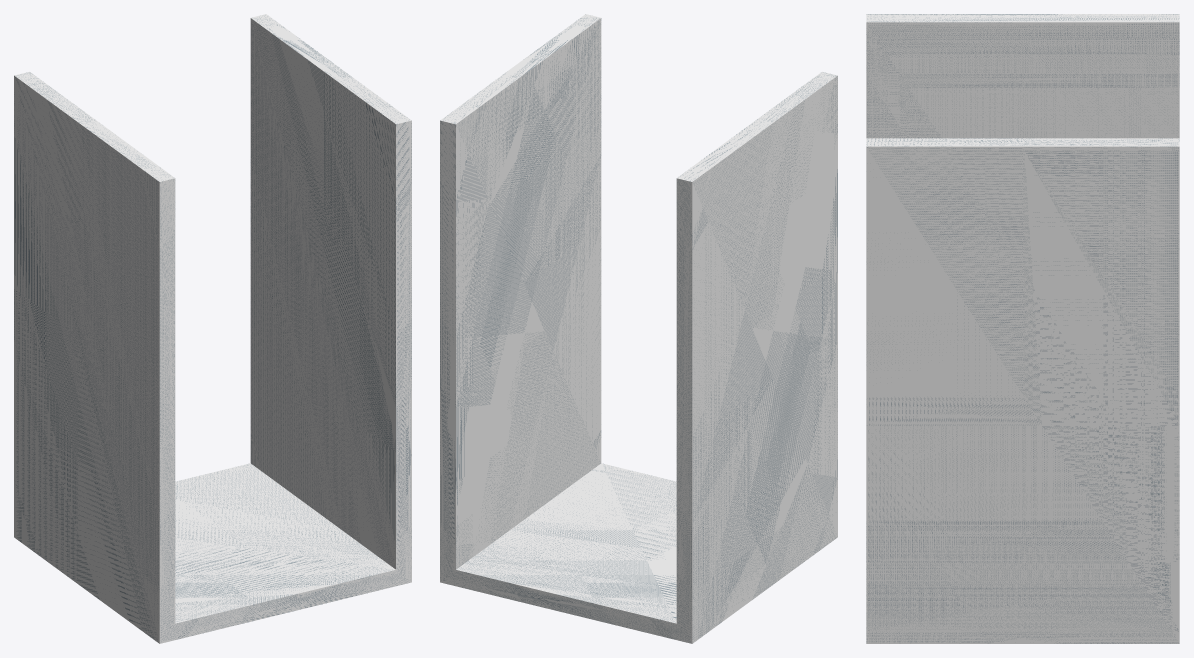
File: Straight.dae
3 renders of one model, left to right at view 1: azimuth 30°, elevation 25°; view 2: azimuth 150°, elevation 25°; view 3: azimuth 270°, elevation 25°, orthographic. The views are drawn at different scales.
Parts seen in each view (by area): view 1: SketchUp; view 2: SketchUp; view 3: SketchUp.
Part boxes in pixels (x1,y1,x2,y2): SketchUp: (14,14,411,643); SketchUp: (440,14,837,643); SketchUp: (866,14,1179,643).
Size of the model in its own units: 1 by 1 by 1.75.
